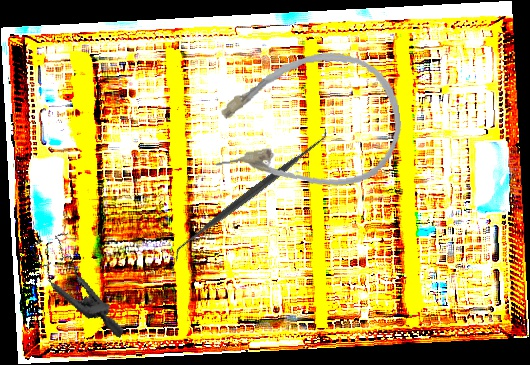Cannula: (203, 44, 408, 201)
Spatula Surgical: (164, 126, 337, 263)
Speculum: (13, 223, 148, 339)
